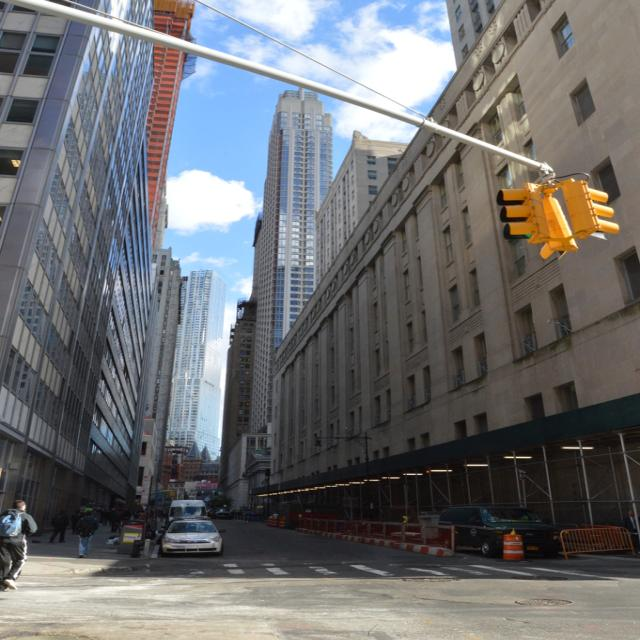car: (157, 516, 221, 555)
